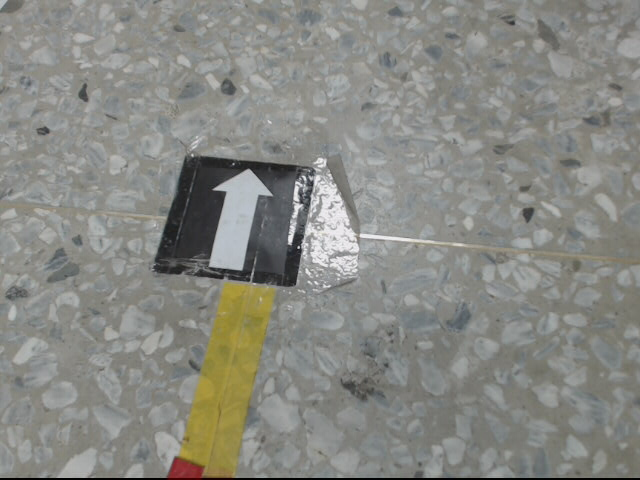straight: (149, 151, 318, 288)
